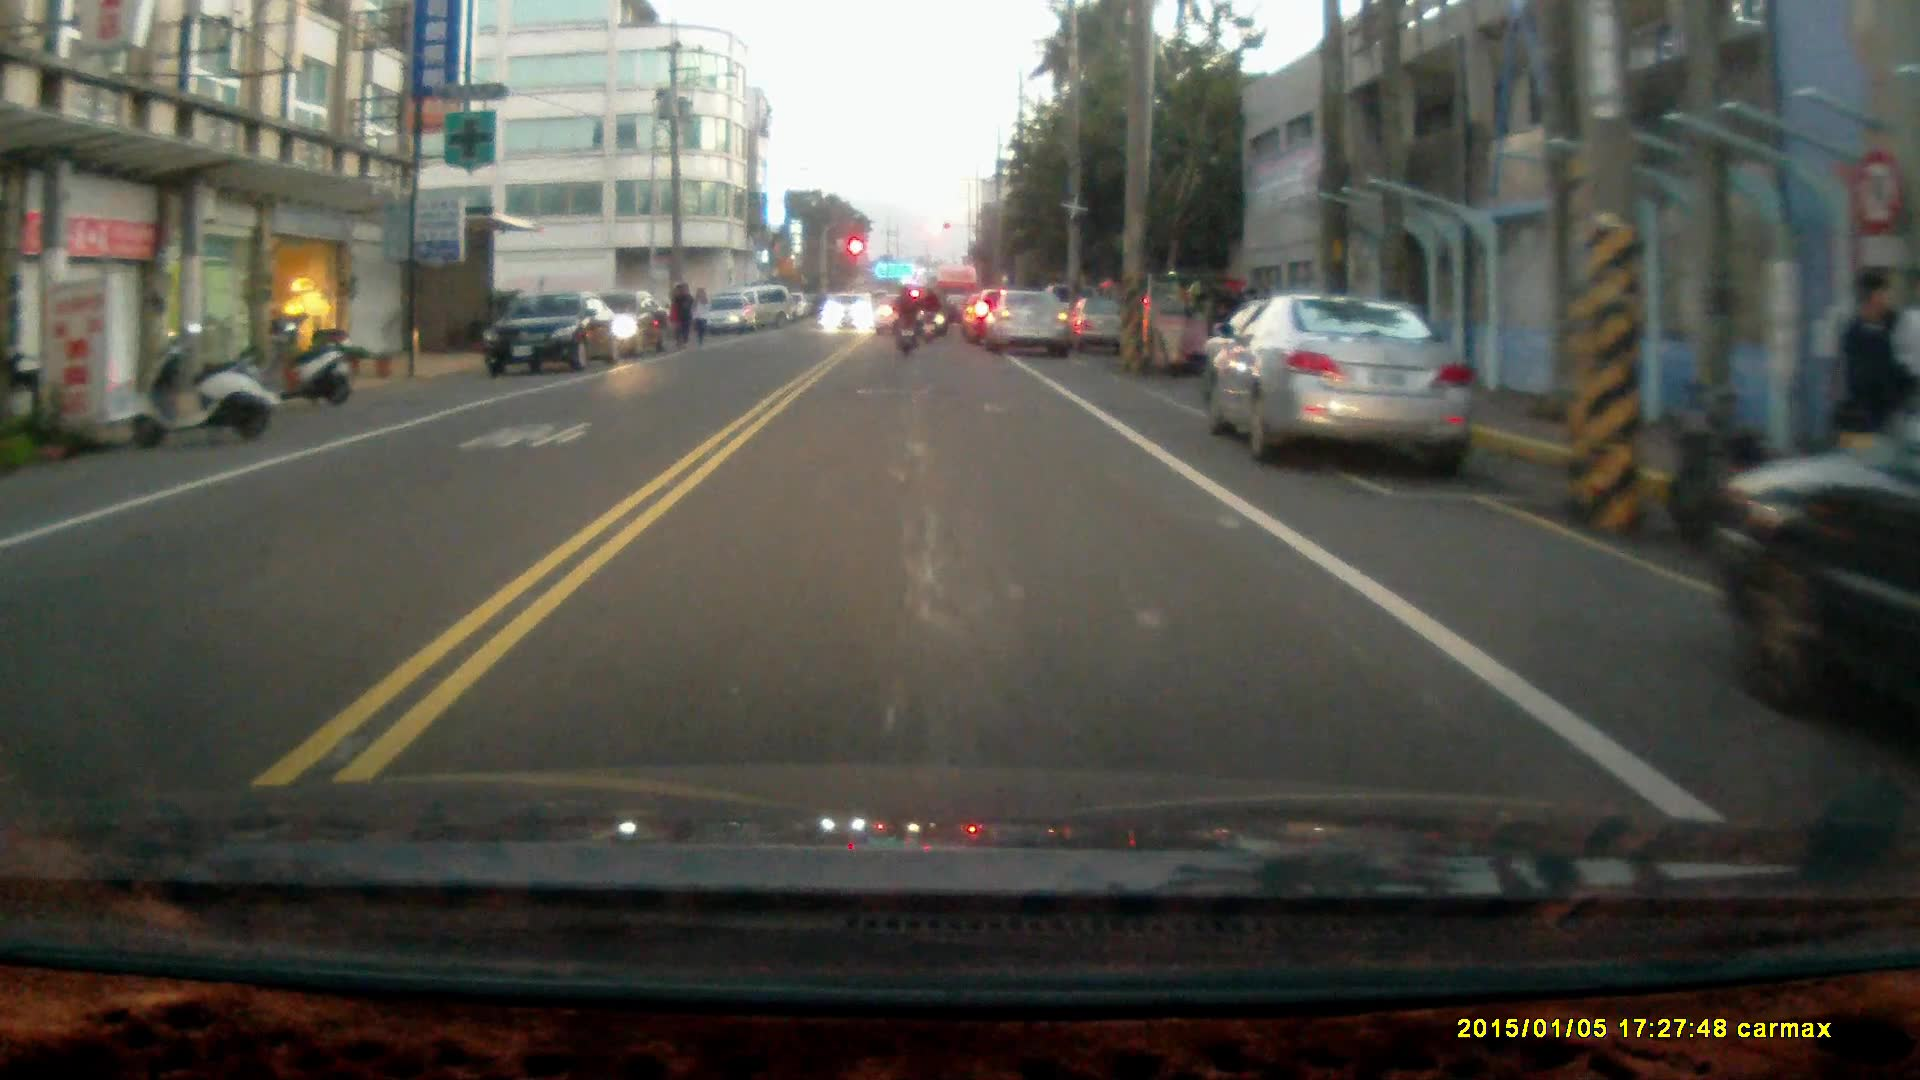pedestrian: (1835, 271, 1892, 502), (1882, 269, 1920, 472), (668, 280, 692, 350), (689, 283, 710, 351)
rider: (889, 283, 920, 359), (914, 283, 942, 346)
vehicle: (1703, 394, 1920, 746), (1209, 294, 1478, 473), (480, 292, 623, 383), (1112, 272, 1225, 374), (983, 288, 1073, 357), (819, 293, 873, 338)
